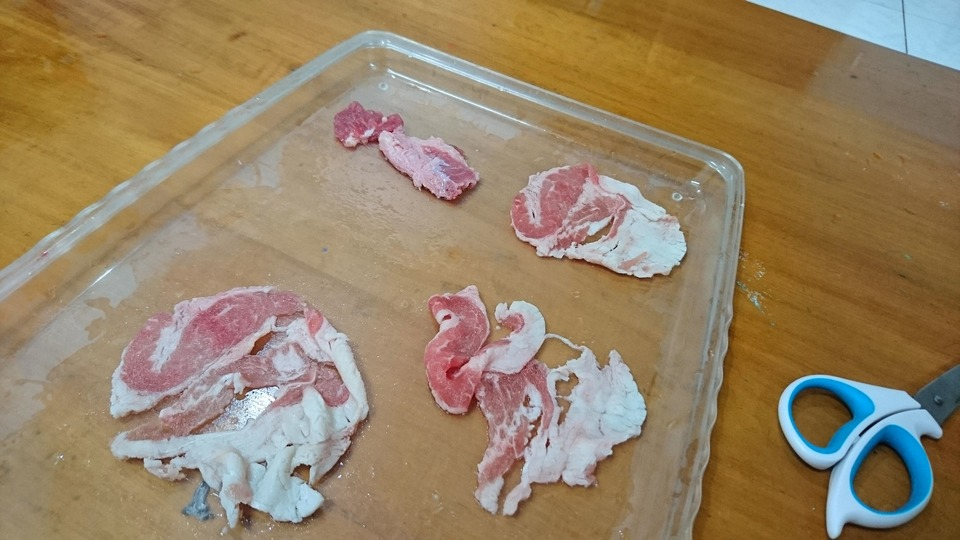restructured meat: (106, 280, 371, 538), (408, 282, 650, 515), (514, 156, 692, 286), (326, 100, 484, 203)
